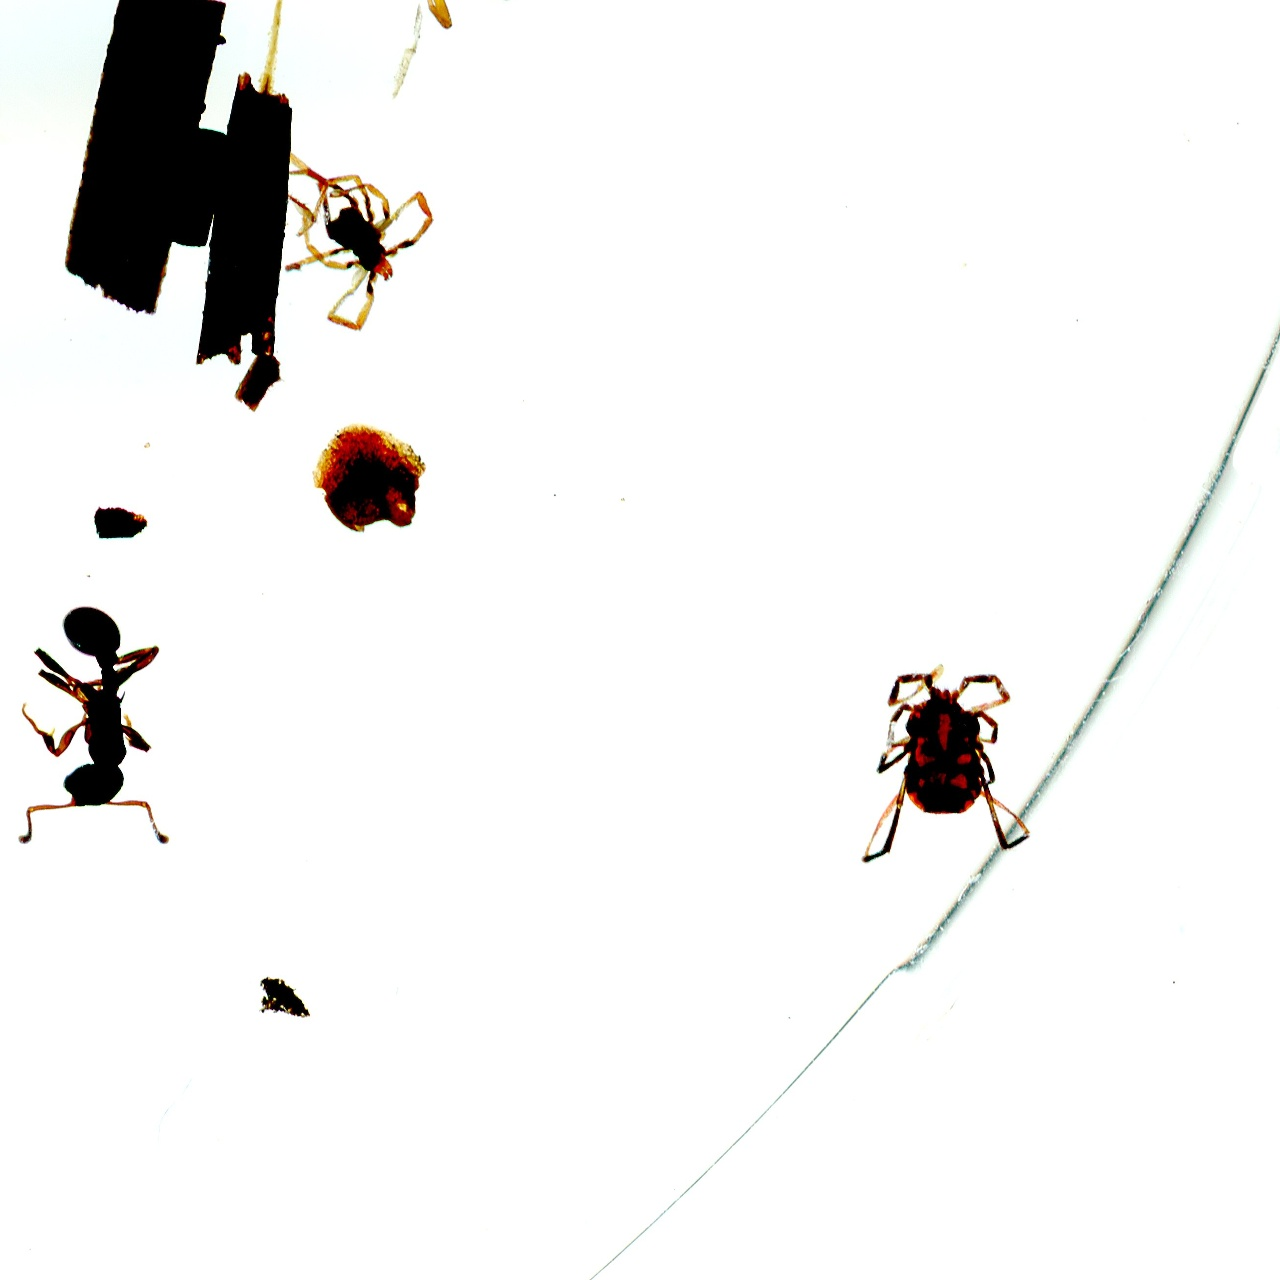arthropod: (6, 595, 181, 858), (851, 644, 1035, 867), (281, 144, 444, 333), (329, 0, 546, 42)
